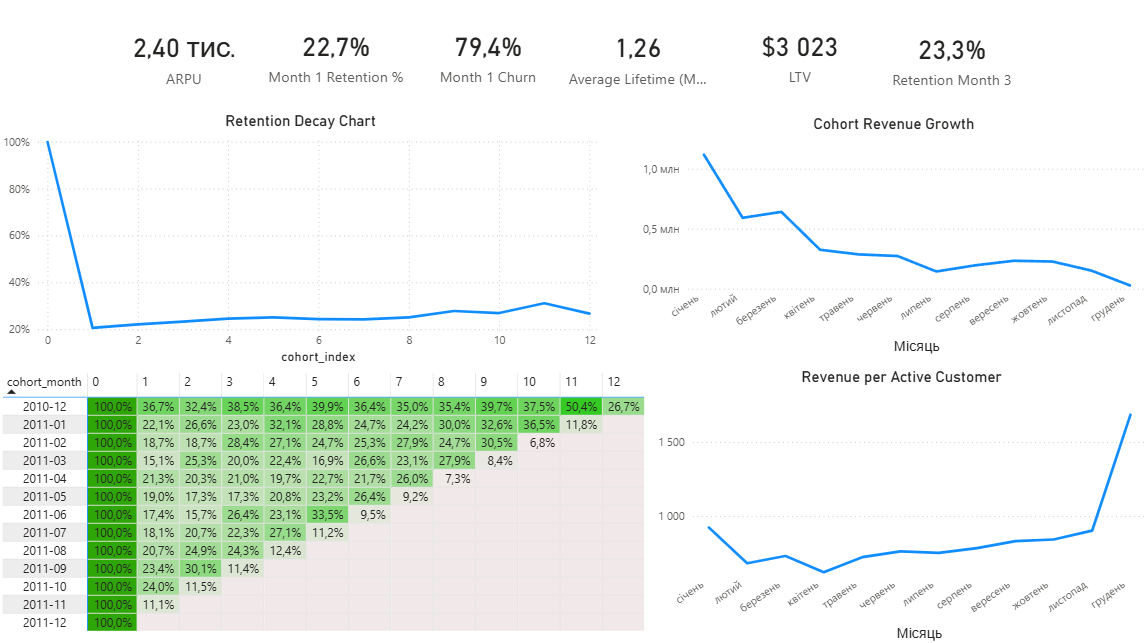

The page's visual inventory and layout, read from the dashboard file:
{"tool":"powerbi","page":{"name":" Customer & Retention","canvas":[1280,720],"ordinal":1},"visuals":[{"type":"card","fields":{"Values":["Avg Retention by Month.ARPU"]},"box":[122.5,0,168.8,131.2],"z":0},{"type":"lineChart","title":"Revenue per Active Customer","fields":{"Category":["Rvn per act ctmr.month.Варіація.Ієрархія дат.Місяць"],"Y":["Sum(Rvn per act ctmr.revenue_per_active_customer)"]},"box":[727.5,412.5,552.5,307.5],"z":1000},{"type":"card","fields":{"Values":["Retention Curve.Month 1 Retention %"]},"box":[291.2,0,168.8,127.5],"z":3000},{"type":"pivotTable","fields":{"Columns":["retention_rate.cohort_index"],"Rows":["retention_rate.cohort_month"],"Values":["Avg(retention_rate.retention_rate)"]},"box":[0,412.5,727.5,307.5],"z":4000},{"type":"lineChart","title":"Retention Decay Chart","fields":{"Category":["retention_rate.cohort_index"],"Y":["Avg(retention_rate.retention_rate)"]},"box":[0,127.8,672.2,284.4],"z":5000},{"type":"card","fields":{"Values":["retention_rate.Average Lifetime (Months)"]},"box":[628.8,0,163.8,131.2],"z":6000},{"type":"card","fields":{"Values":["retention_rate.Month 1 Churn"]},"box":[460,0,168.8,127.5],"z":7000},{"type":"card","fields":{"Values":["retention_rate.LTV"]},"box":[806.2,0,168.8,127.5],"z":8000},{"type":"card","fields":{"Values":["retention_rate.Retention Month 3"]},"box":[975,3.8,168.8,127.5],"z":9000},{"type":"lineChart","title":"Cohort Revenue Growth","fields":{"Category":["Revenue by Acquisition Cohort.cohort_month.Варіація.Ієрархія дат.Місяць"],"Y":["Sum(Revenue by Acquisition Cohort.cohort_revenue)"]},"box":[711.1,131.1,568.9,270],"z":9001}]}

Visuals, with their boxes in screenshot pixels (x1, y1, x2, y2), scaled from the page's 1280x720 canvas onto the 1148x643 screenshot:
card - Avg Retention by Month.ARPU: 110/0/261/117
"Revenue per Active Customer" lineChart: 652/368/1147/642
card - Retention Curve.Month 1 Retention %: 261/0/413/114
pivotTable - retention_rate.cohort_index x retention_rate.cohort_month: 0/368/652/642
"Retention Decay Chart" lineChart: 0/114/603/368
card - retention_rate.Average Lifetime (Months): 564/0/711/117
card - retention_rate.Month 1 Churn: 413/0/564/114
card - retention_rate.LTV: 723/0/874/114
card - retention_rate.Retention Month 3: 874/3/1026/117
"Cohort Revenue Growth" lineChart: 638/117/1147/358
